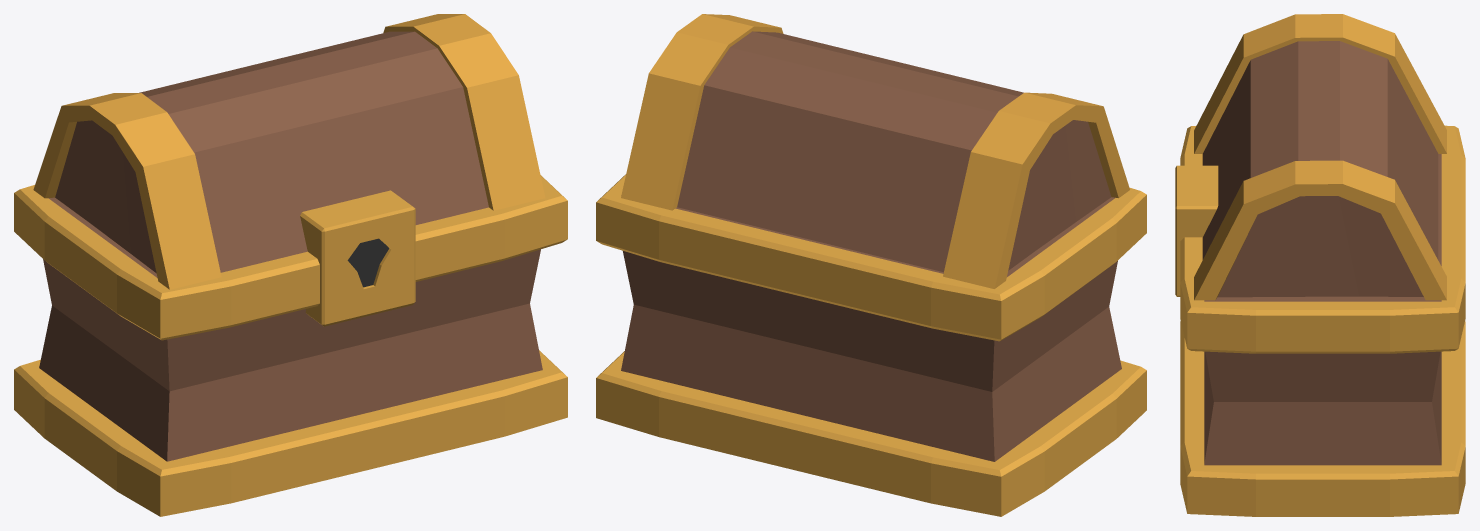
Rendered from chest.fbx.
The picture shows the model from 3 angles, left to right: view 1: azimuth 30°, elevation 25°; view 2: azimuth 150°, elevation 25°; view 3: azimuth 270°, elevation 25°; orthographic projection. The views are drawn at different scales.
Visible parts, largest first — view 1: chest, lid, lock; view 2: chest, lid; view 3: chest, lid, lock.
Boxes of the visible parts, box(x1,y1,x2,y2) form: chest: box(14, 175, 567, 516); lid: box(33, 14, 545, 289); lock: box(300, 190, 415, 326); chest: box(596, 174, 1146, 516); lid: box(621, 14, 1129, 288); chest: box(1180, 125, 1465, 516); lid: box(1194, 14, 1446, 300); lock: box(1175, 165, 1218, 296).
Bounding box in the file's own units: 112 × 88.17 × 72.16.
